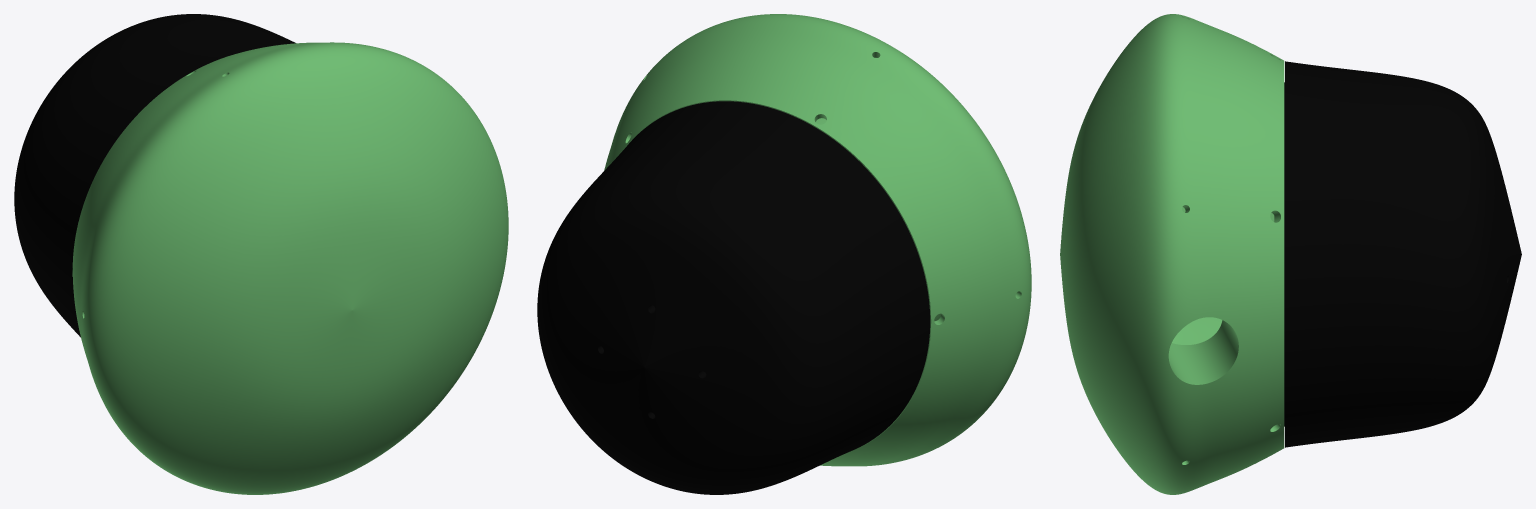
Rendered from nuthatch-v1.glb.
The picture shows the model from 3 angles, left to right: view 1: azimuth 30°, elevation 25°; view 2: azimuth 150°, elevation 25°; view 3: azimuth 270°, elevation 25°; orthographic projection.
Parts seen in each view (by area): view 1: mesh_0_1, mesh_0; view 2: mesh_0, mesh_0_1; view 3: mesh_0_1, mesh_0.
Part boxes in pixels (x1,y1,x2,y2): mesh_0_1: (72,42,508,494); mesh_0: (14,14,295,337); mesh_0: (537,101,930,494); mesh_0_1: (604,14,1031,466); mesh_0_1: (1060,14,1284,494); mesh_0: (1284,61,1521,447).
Bounding box in the file's own units: 187 × 187 × 179.
